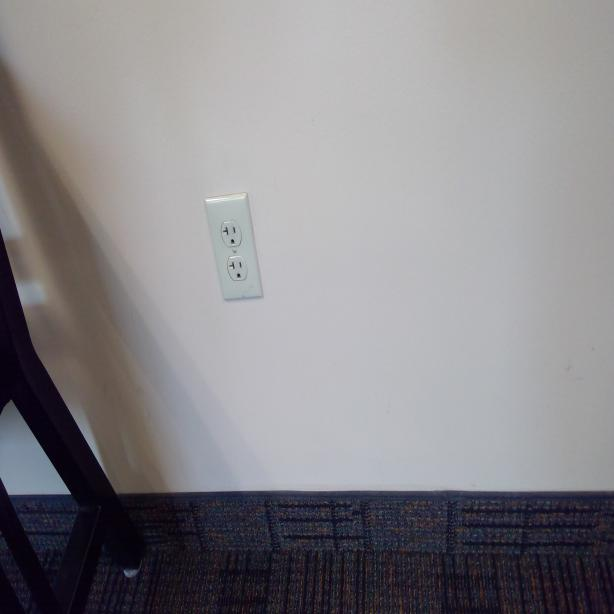typeb: (222, 217, 240, 251), (228, 255, 246, 284)
